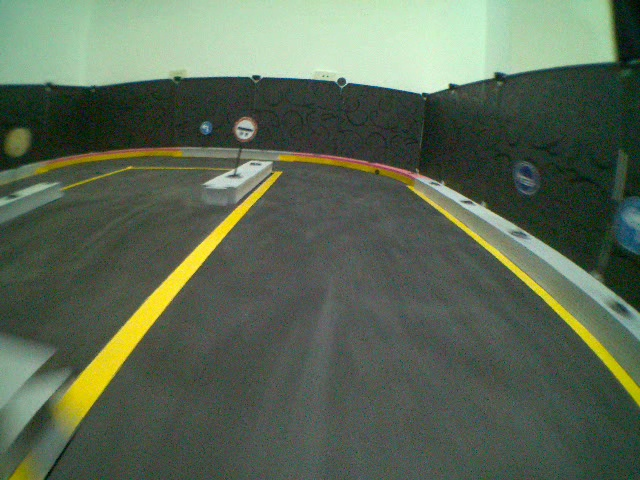Check: (233, 115, 257, 140)
horn: (512, 161, 539, 195)
turn: (199, 119, 213, 135)
